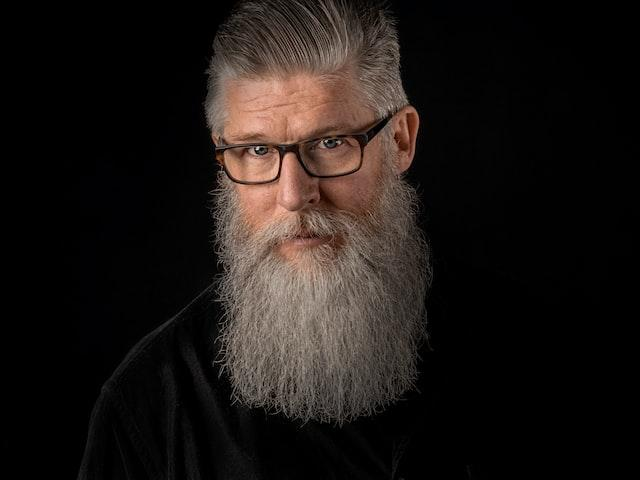forehead: (247, 94, 301, 118), (310, 96, 342, 112)
frown_line: (280, 125, 296, 144)
